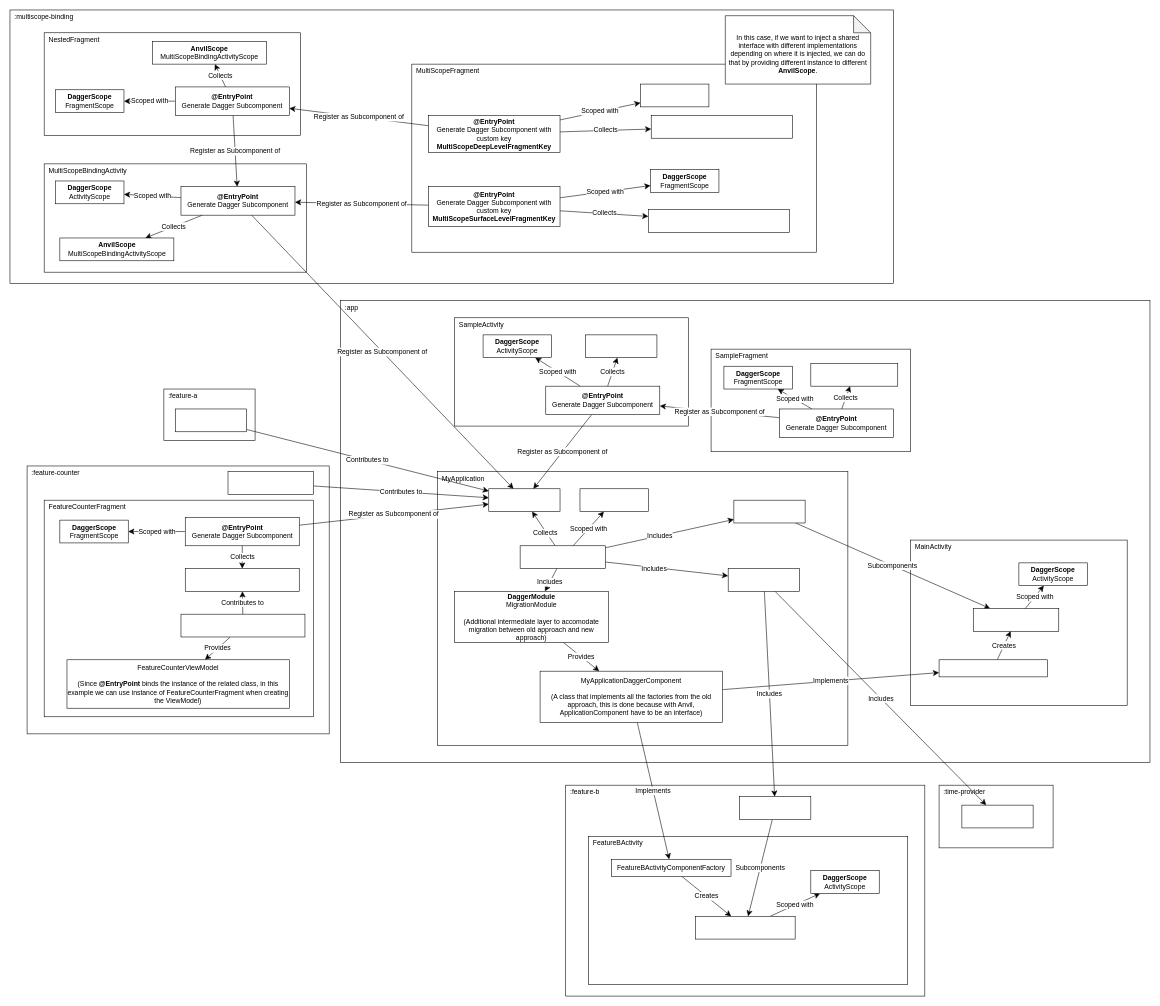
This 1160x1006 diagram has some shape labels left out. Each missing label, with the centre of its shape:
AnvilScope ApplicationScope: pixel 524 500
AnvilScope FeatureCounterFragmentScope: pixel 242 579
AnvilScope MultiScopeDeepLevelFragmentScope: pixel 721 126
AnvilScope MultiScopeSurfaceLevelFragmentScope: pixel 718 220
AnvilScope SampleActivityScope: pixel 621 346
AnvilScope SampleFragmentScope: pixel 854 374
DaggerComponent ApplicationComponent: pixel 563 557
DaggerModule ApplicationModule: pixel 769 511
DaggerModule FeatureAModule: pixel 211 420
DaggerModule FeatureBModule: pixel 775 807
DaggerModule FeatureCounterFragmentModule: pixel 242 625
DaggerModule FeatureCounterModule: pixel 270 482
DaggerModule FeatureModule: pixel 763 579
DaggerModule TimeProviderModule: pixel 997 816
DaggerScope ChildFragmentScope: pixel 674 95
DaggerScope Singleton: pixel 613 500
DaggerSubcomponent FeatureBActivityComponent: pixel 745 927
DaggerSubcomponent MainActivityComponent: pixel 1016 619
MainActivityComponentFactory: pixel 993 668
